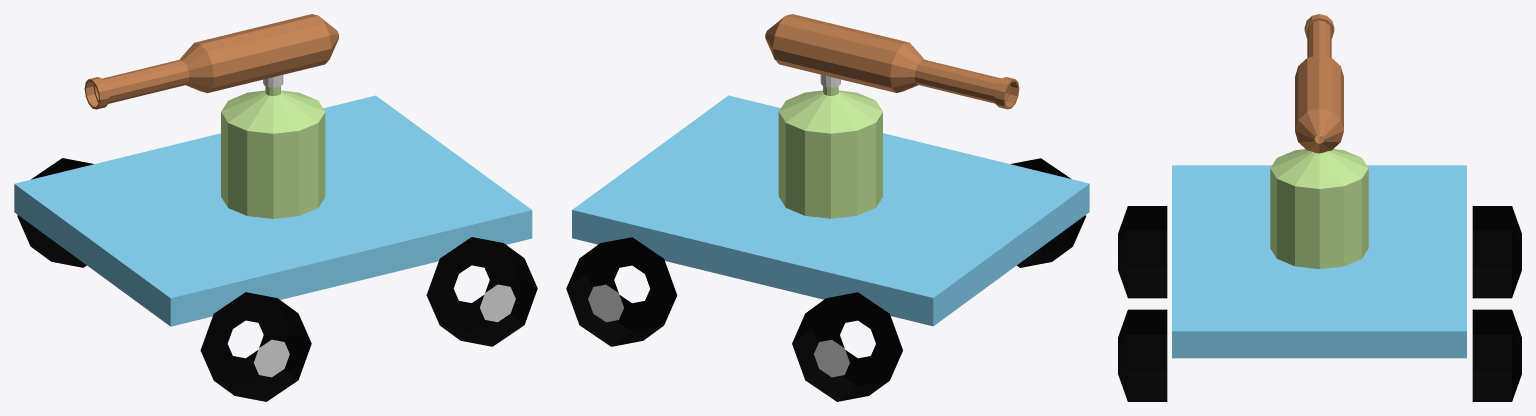
The model's file is cannon.glb.
The picture shows the model from 3 angles, left to right: view 1: azimuth 30°, elevation 25°; view 2: azimuth 150°, elevation 25°; view 3: azimuth 270°, elevation 25°; orthographic projection. The views are drawn at different scales.
Parts seen in each view (by area): view 1: Cannon; view 2: Cannon; view 3: Cannon.
Part boxes in pixels (box(x1,y1,x2,y2)): Cannon: box(14, 14, 537, 401); Cannon: box(566, 14, 1089, 401); Cannon: box(1118, 14, 1521, 401).
Bounding box in the file's own units: 4 × 2.9 × 4.11.
